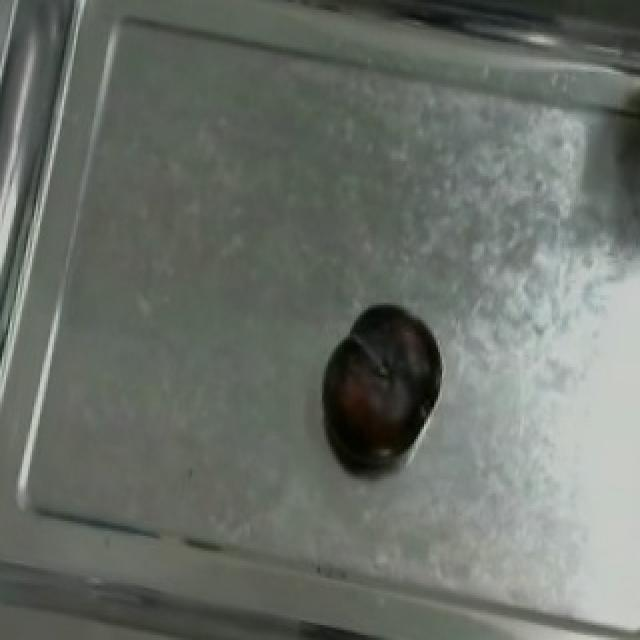Fruit: (306, 290, 452, 472)
